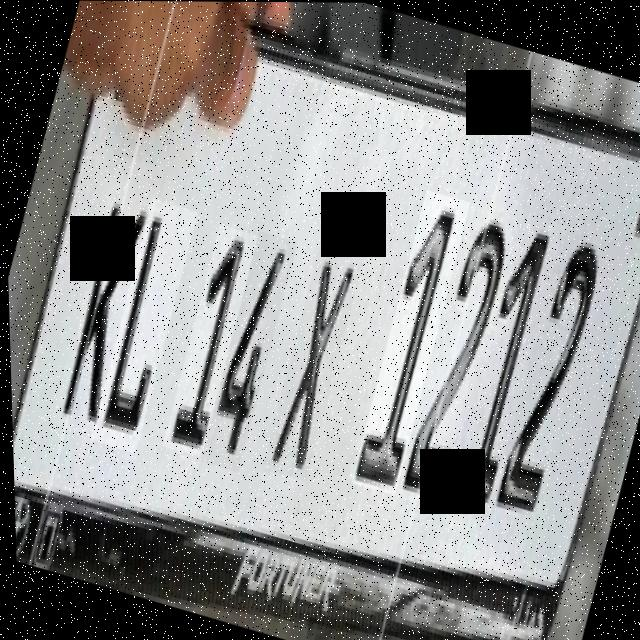1: (433, 211, 570, 533), (341, 188, 475, 495), (154, 223, 262, 457)
4: (190, 230, 301, 472)
K: (41, 155, 170, 439)
L: (81, 198, 202, 454)
X: (253, 235, 370, 482)
